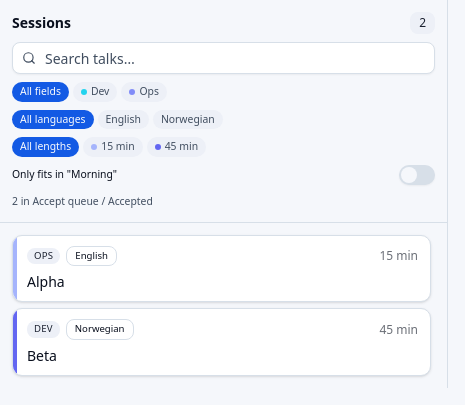
Scenario: SessionCatalog › filters sessions that fit the selected block
The image size is (465, 405).
Click the switch named "only show sessions that fit".
click(417, 175)  # box [399, 165, 435, 185]
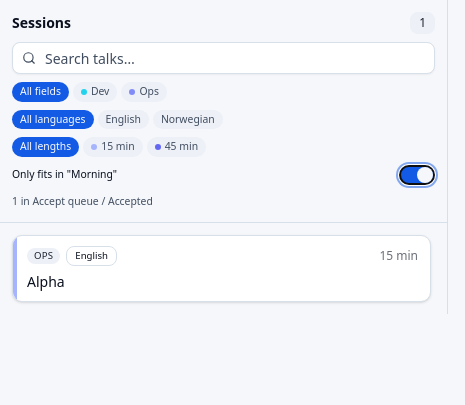
Expected: the heading "Alpha" is shown, [27, 272, 65, 291]
Now the heading "Beta" is gone
